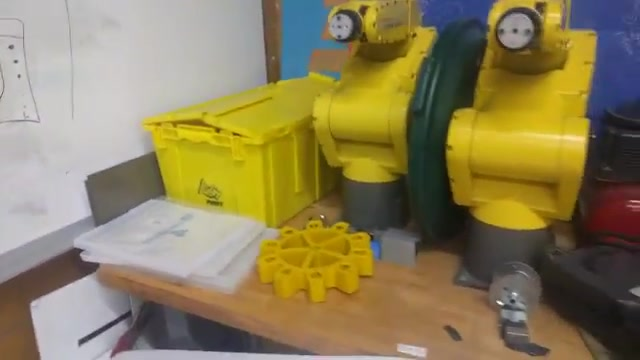gear: (251, 213, 376, 302)
